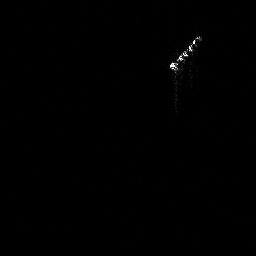ship: (165, 32, 204, 74)
